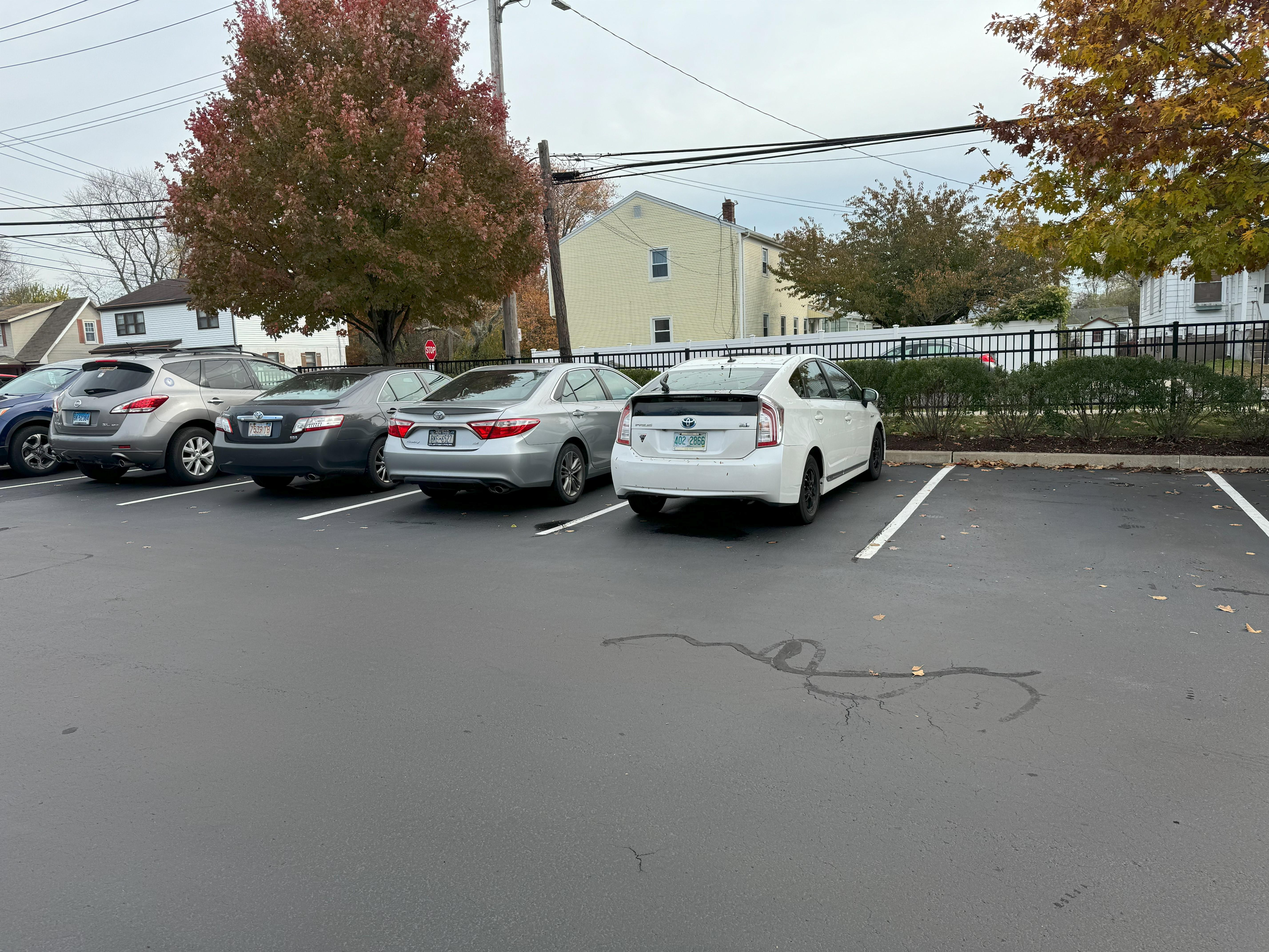empty: (922, 456, 1228, 568)
occupied: (614, 343, 899, 540), (383, 354, 606, 513), (225, 358, 405, 494), (54, 347, 206, 503), (9, 356, 47, 471)
